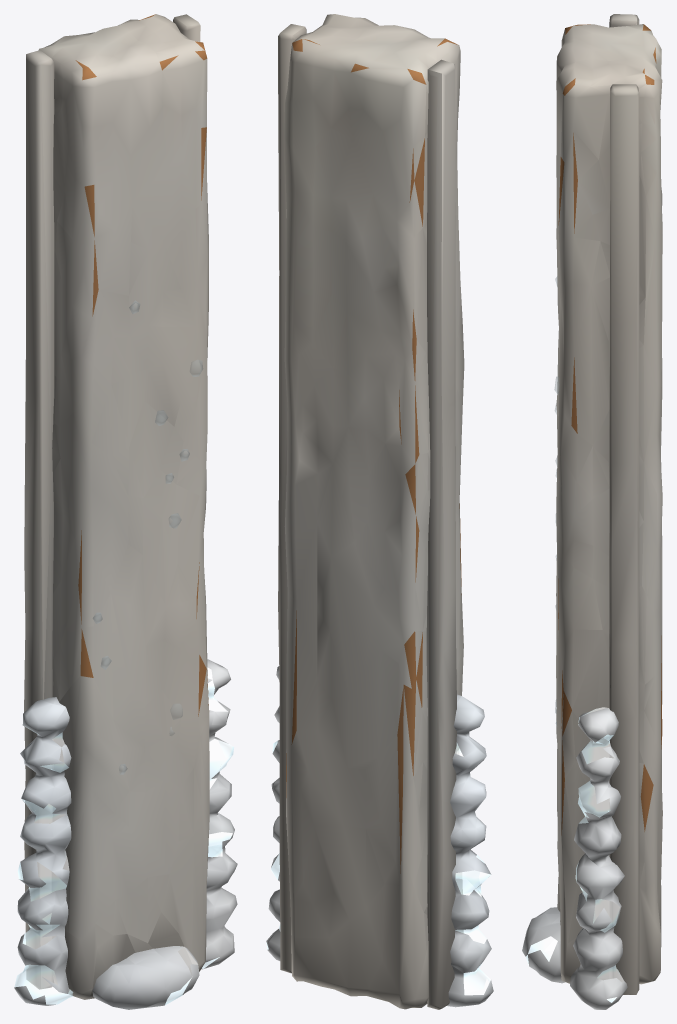
File: frost_window_cliff_mullion_lod1.glb
3 renders of one model, left to right at view 1: azimuth 30°, elevation 25°; view 2: azimuth 150°, elevation 25°; view 3: azimuth 270°, elevation 25°, orthographic. The views are drawn at different scales.
Visible parts, largest first — view 1: frost_window_cliff_mullion.001; view 2: frost_window_cliff_mullion.001; view 3: frost_window_cliff_mullion.001.
Part boxes in pixels (box(x1,y1,x2,y2)): frost_window_cliff_mullion.001: box(14, 14, 237, 1009); frost_window_cliff_mullion.001: box(266, 14, 493, 1009); frost_window_cliff_mullion.001: box(522, 14, 662, 1009).
Size of the model in its own units: 9.74 by 40.72 by 5.62.
